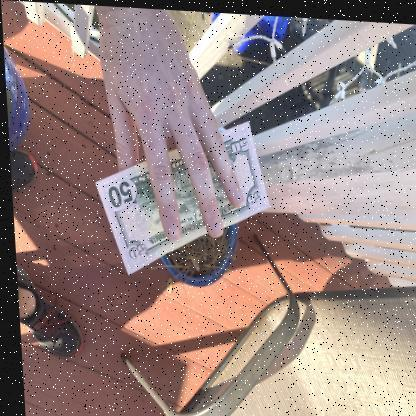dollar_back: (91, 117, 267, 273)
